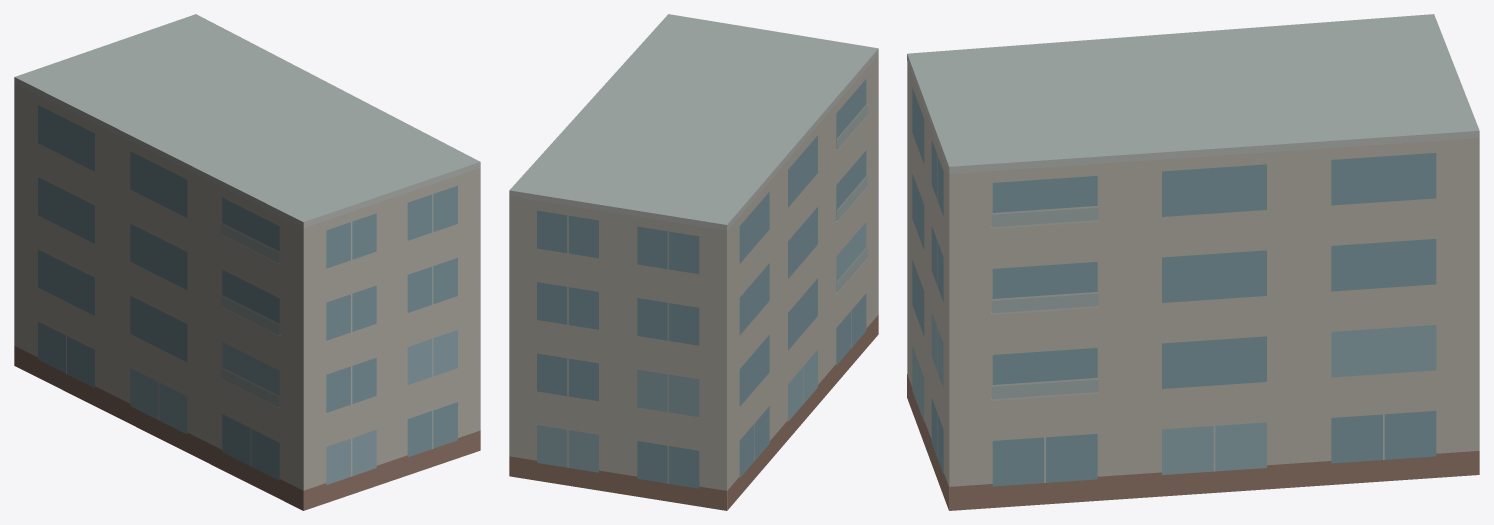
Rendered from survey-upis-32761306.glb.
3 renders of one model, left to right at view 1: azimuth 30°, elevation 25°; view 2: azimuth 150°, elevation 25°; view 3: azimuth 270°, elevation 25°, orthographic. The views are drawn at different scales.
Visible parts, largest first — view 1: survey-upis-32761306.tmp; view 2: survey-upis-32761306.tmp; view 3: survey-upis-32761306.tmp.
Part boxes in pixels (box(x1,y1,x2,y2)): survey-upis-32761306.tmp: box(14, 14, 480, 510); survey-upis-32761306.tmp: box(509, 14, 878, 510); survey-upis-32761306.tmp: box(907, 14, 1479, 510).
Size of the model in its own units: 11.17 by 11.72 by 17.69.
